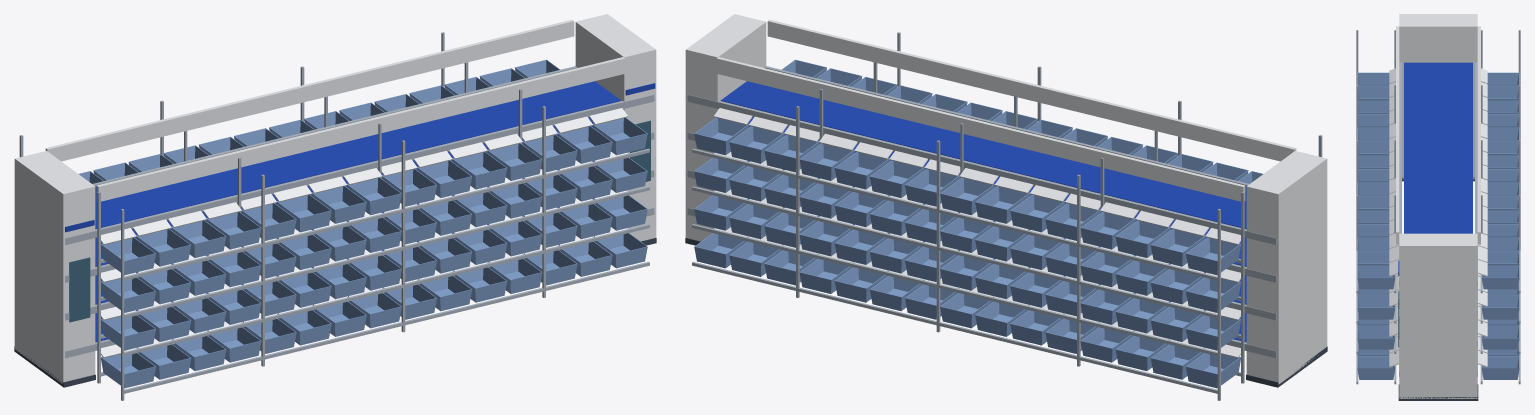
Rendered from SM_MPR_SorterCAD120_LOD2.fbx.
3 views of the same model, side by side, from view 1: azimuth 30°, elevation 25°; view 2: azimuth 150°, elevation 25°; view 3: azimuth 270°, elevation 25° (orthographic). The views are drawn at different scales.
Visible parts, largest first — view 1: SM_MPR_SorterCAD120_LOD2; view 2: SM_MPR_SorterCAD120_LOD2; view 3: SM_MPR_SorterCAD120_LOD2.
Boxes of the visible parts, <box> form: SM_MPR_SorterCAD120_LOD2: <box>14,14,656,400</box>; SM_MPR_SorterCAD120_LOD2: <box>685,14,1327,400</box>; SM_MPR_SorterCAD120_LOD2: <box>1356,14,1520,400</box>.
Size of the model in its own units: 732 by 219 by 231.
